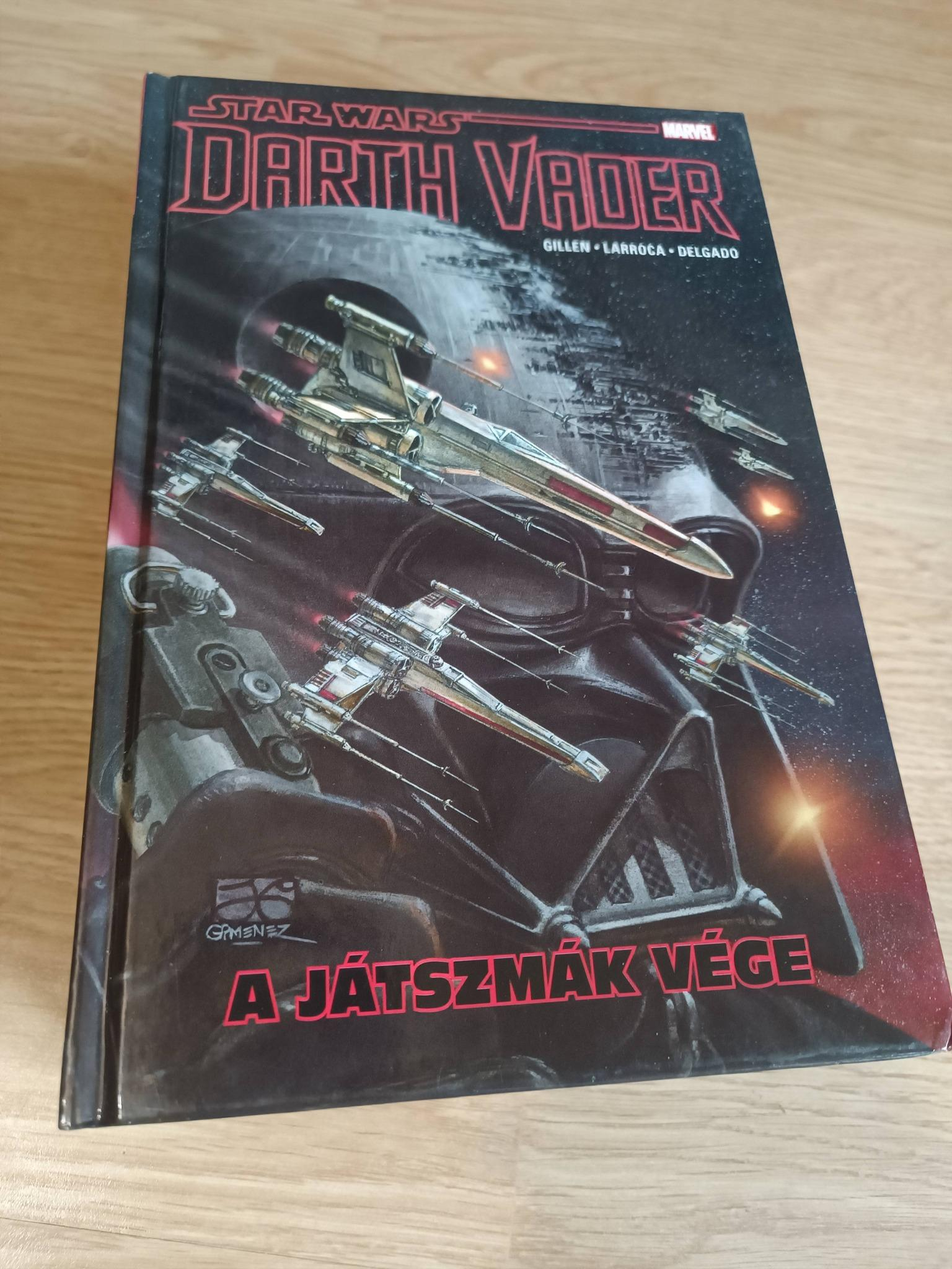comic: (61, 74, 952, 1168)
